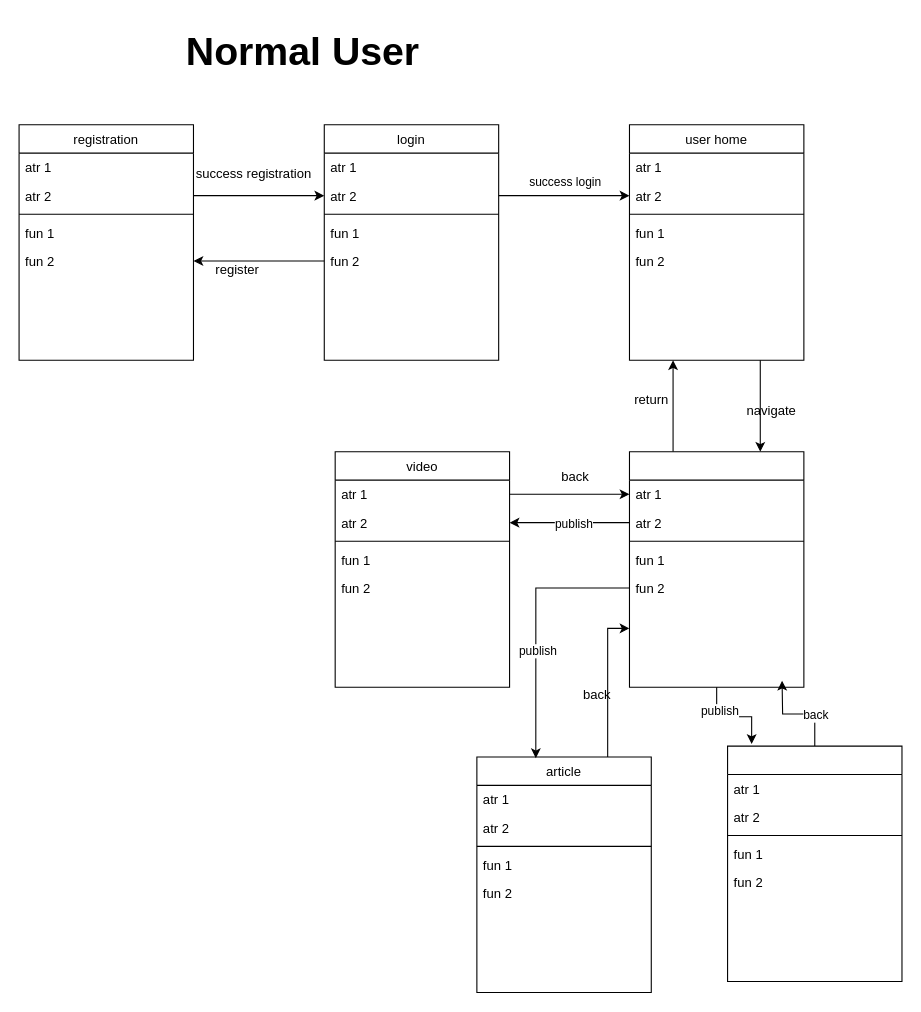
Some shapes in this 921 by 1012 pixel diagram are drawn without their labels. The box of each missing label's shape, as (x1, y1, x2, y2) in pixels:
audio: (726, 745, 902, 982)
category: (628, 451, 804, 687)
